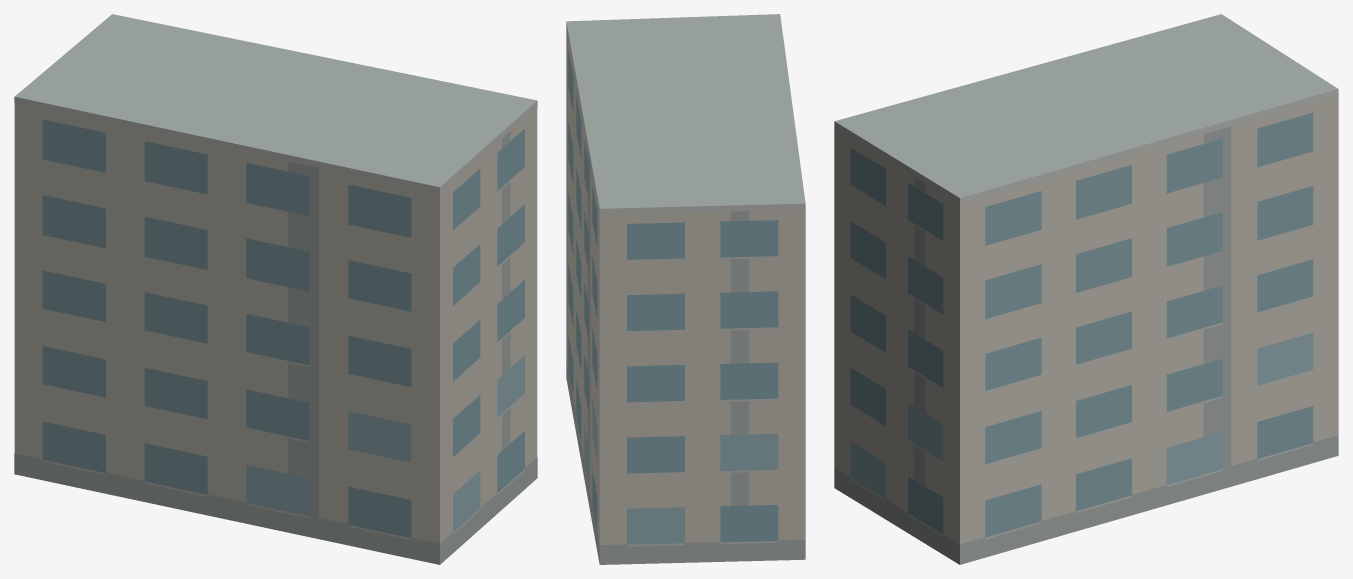
Rendered from survey-upis-32944600.glb.
3 views of the same model, side by side, from view 1: azimuth 30°, elevation 25°; view 2: azimuth 150°, elevation 25°; view 3: azimuth 270°, elevation 25° (orthographic). The views are drawn at different scales.
Visible parts, largest first — view 1: survey-upis-32944600.tmp; view 2: survey-upis-32944600.tmp; view 3: survey-upis-32944600.tmp.
Boxes of the visible parts, x1,y1,x2,y2 form: survey-upis-32944600.tmp: [14, 14, 537, 564]; survey-upis-32944600.tmp: [566, 14, 805, 564]; survey-upis-32944600.tmp: [834, 14, 1338, 564].
Size of the model in its own units: 15.62 by 14.5 by 18.07.
